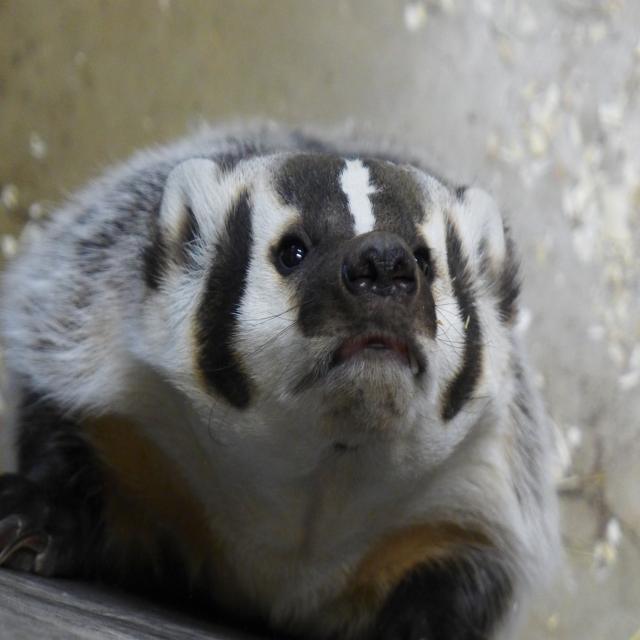Badger: (0, 94, 552, 632)
